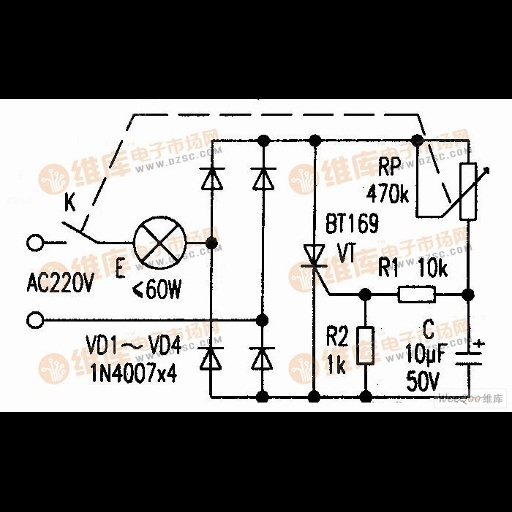firstpolarcapacitor: (453, 336, 491, 370)
firstresistance: (390, 282, 442, 307), (351, 323, 379, 367)
light: (128, 214, 192, 270)
seconddiode: (244, 342, 277, 373), (193, 164, 228, 193), (248, 166, 280, 196), (197, 344, 226, 374)
